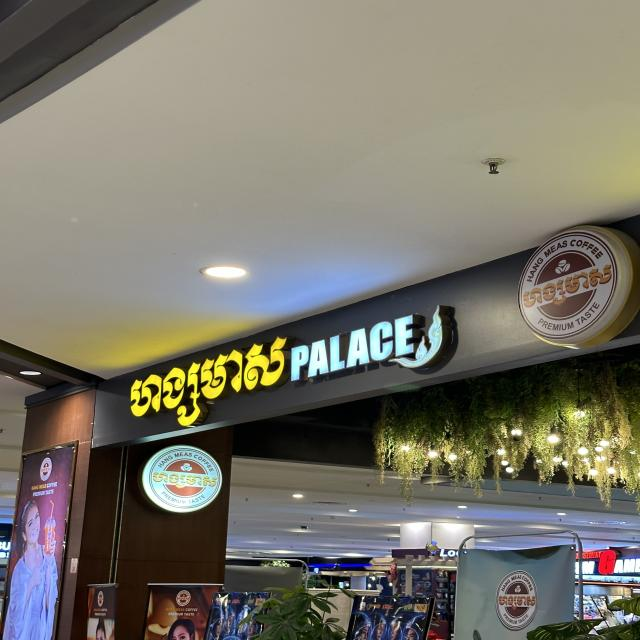Yolov11_80vkh: (115, 330, 289, 440), (509, 258, 617, 315), (142, 466, 223, 499)
